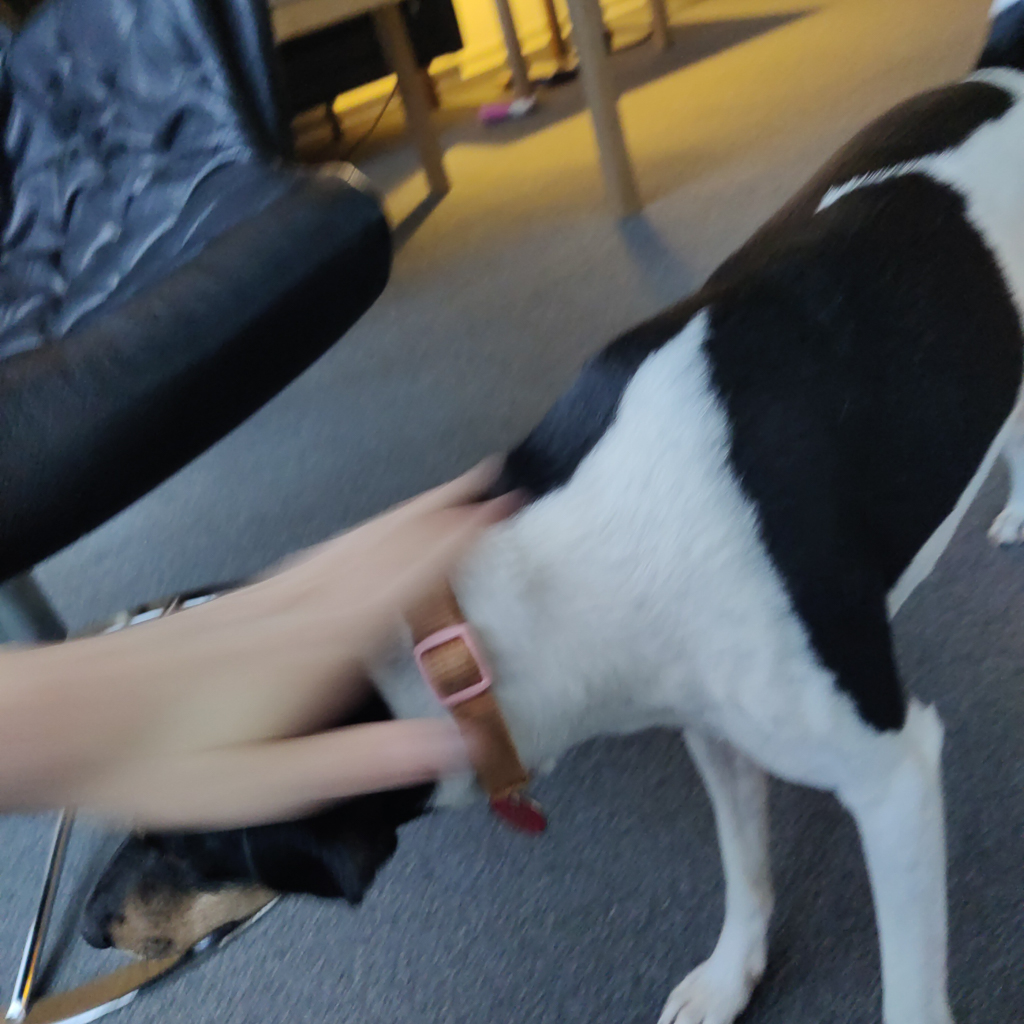Dog: (47, 0, 1024, 1024)
Humanoid: (0, 400, 575, 877)
